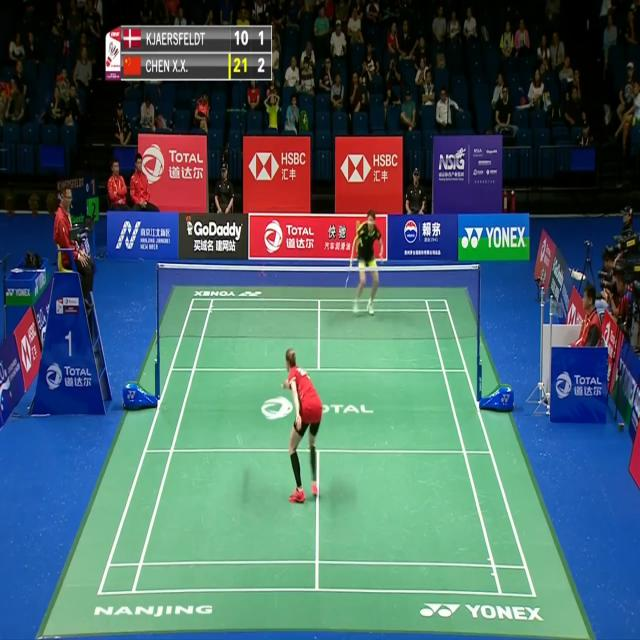Player1: (280, 335, 328, 513)
Player2: (342, 201, 386, 318)
